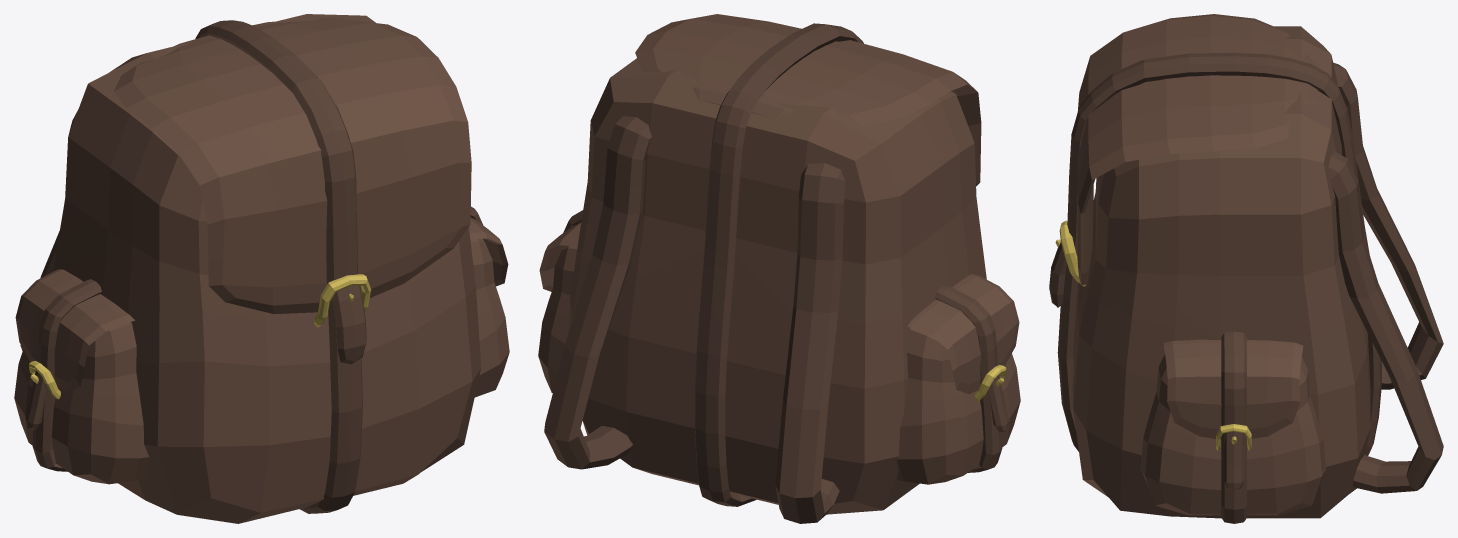
File: Backpack.glb
3 renders of one model, left to right at view 1: azimuth 30°, elevation 25°; view 2: azimuth 150°, elevation 25°; view 3: azimuth 270°, elevation 25°, orthographic. The views are drawn at different scales.
Parts seen in each view (by area): view 1: Backpack; view 2: Backpack; view 3: Backpack.
Boxes of the visible parts, bbox=[...] form: Backpack: bbox=[14, 14, 509, 523]; Backpack: bbox=[538, 14, 1020, 523]; Backpack: bbox=[1049, 14, 1443, 523].
Size of the model in its own units: 1.07 by 0.9506 by 0.8037.
